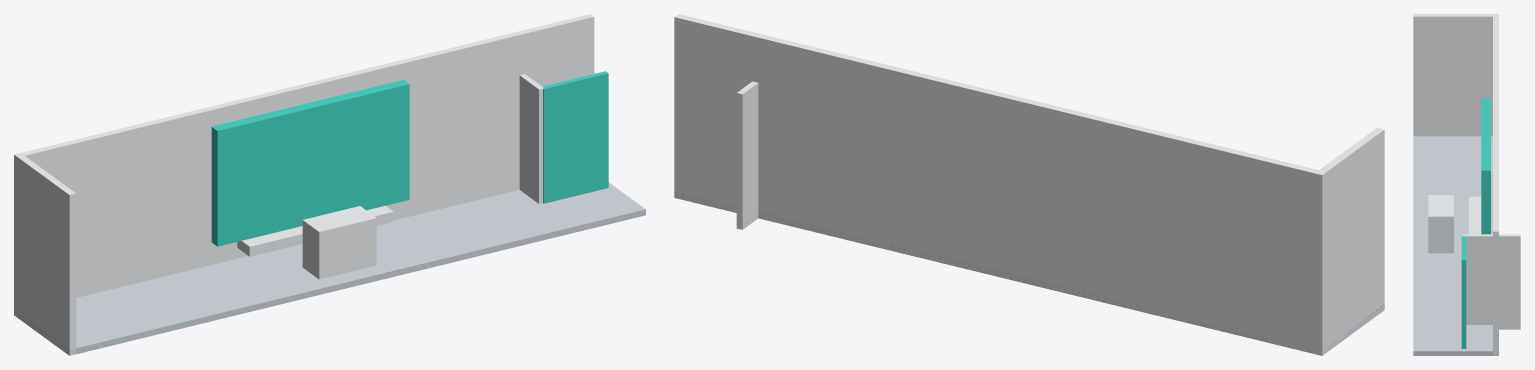
The picture shows the model from 3 angles, left to right: view 1: azimuth 30°, elevation 25°; view 2: azimuth 150°, elevation 25°; view 3: azimuth 270°, elevation 25°; orthographic projection. The views are drawn at different scales.
Visible parts, largest first — view 1: Exhibition Booth Concept; view 2: Exhibition Booth Concept; view 3: Exhibition Booth Concept.
Part boxes in pixels (box(x1,y1,x2,y2)): Exhibition Booth Concept: box(14, 14, 645, 355); Exhibition Booth Concept: box(674, 14, 1384, 355); Exhibition Booth Concept: box(1413, 14, 1520, 355).
Bounding box in the file's own units: 12 × 3.2 × 2.5.
